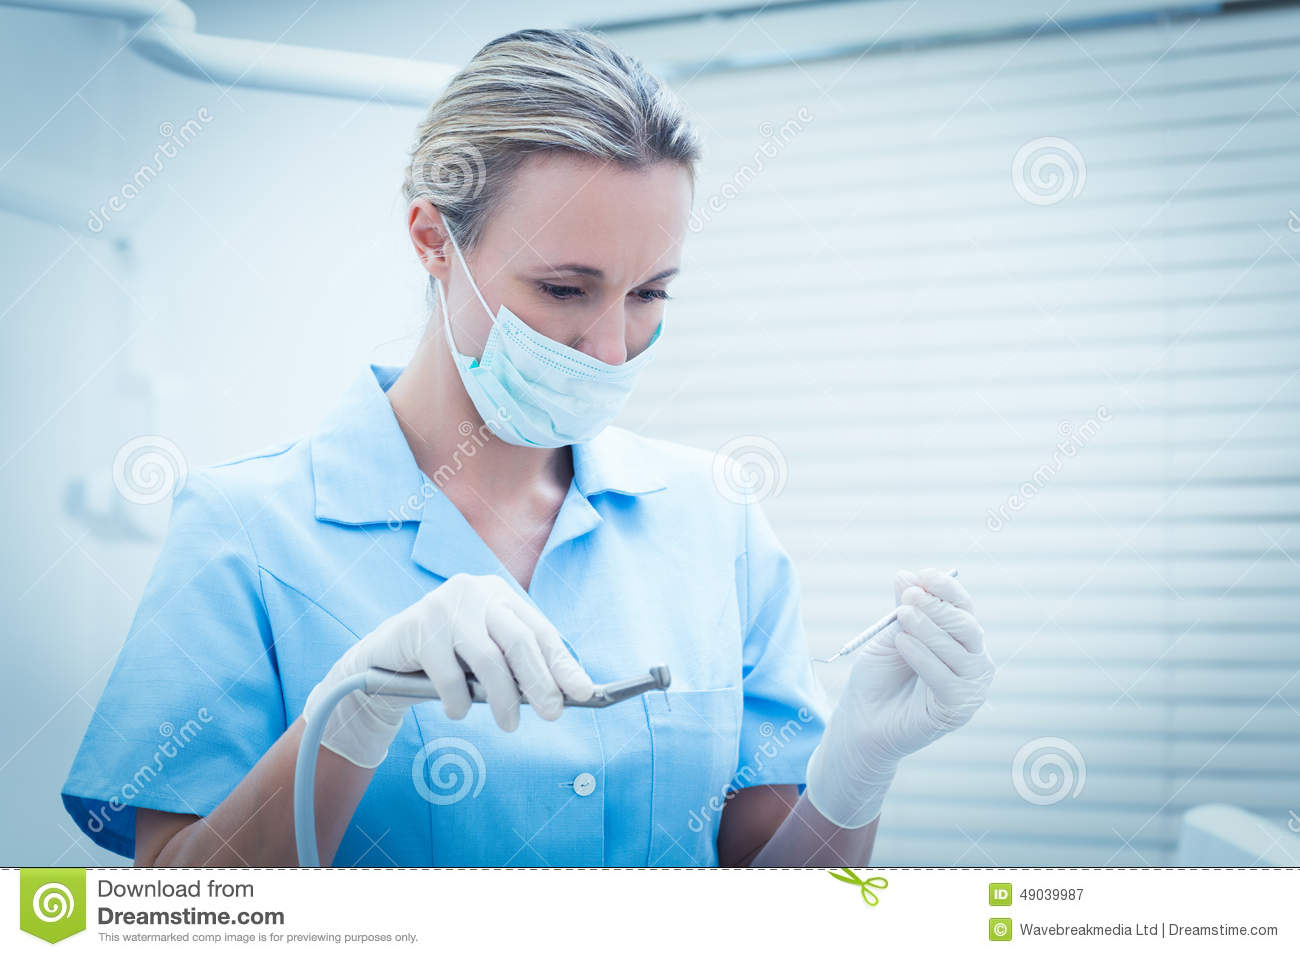mask: (453, 312, 706, 473)
